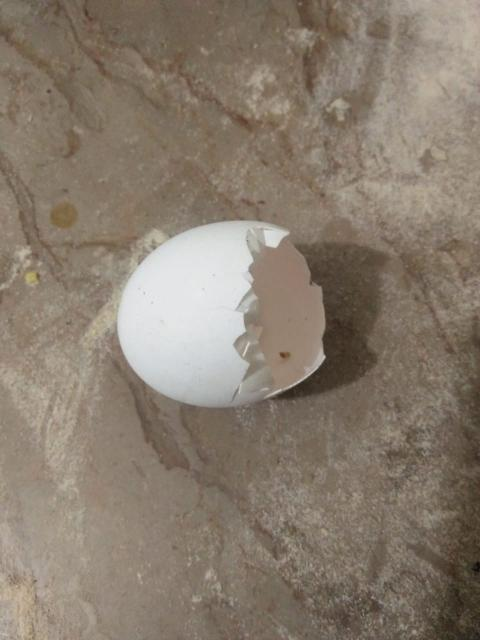Roto: (116, 218, 327, 408)
